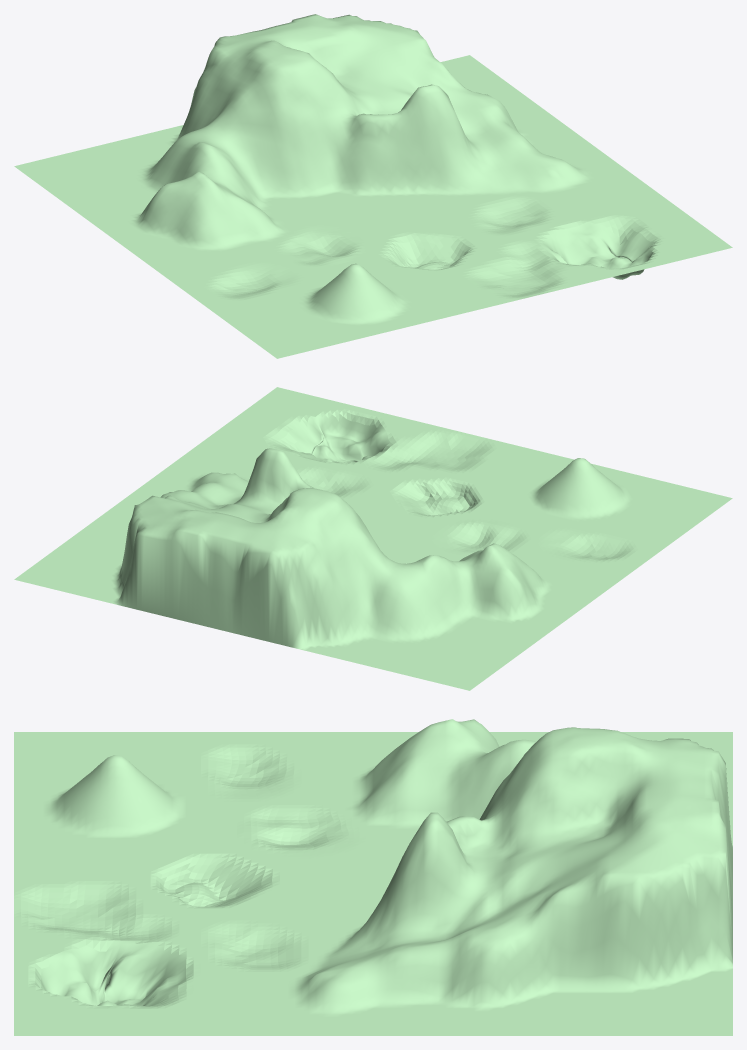
File: map3.dae
3 renders of one model, top to bottom at view 1: azimuth 30°, elevation 25°; view 2: azimuth 150°, elevation 25°; view 3: azimuth 270°, elevation 25°, orthographic. The views are drawn at different scales.
Visible parts, largest first — view 1: group_0; view 2: group_0; view 3: group_0.
Part boxes in pixels (bbox=[...]): group_0: bbox=[14, 14, 732, 358]; group_0: bbox=[14, 387, 732, 690]; group_0: bbox=[14, 719, 732, 1035].
Bounding box in the file's own units: 787 × 787 × 212.
